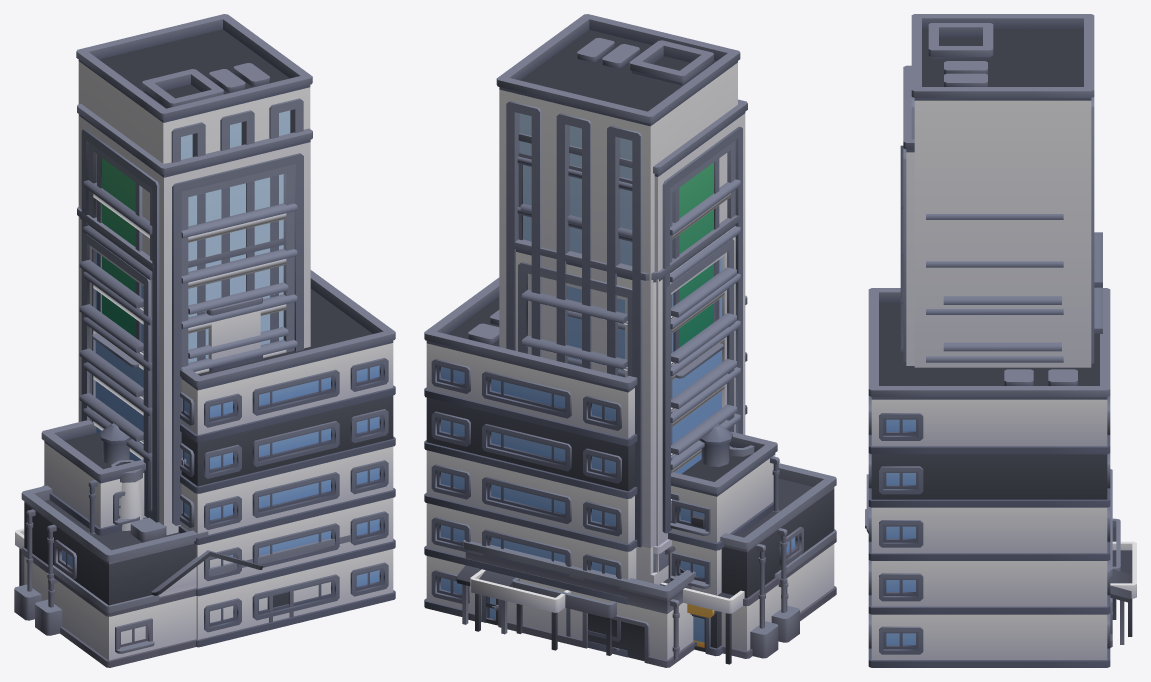
File: world_buildings.glb
3 views of the same model, side by side, from view 1: azimuth 30°, elevation 25°; view 2: azimuth 150°, elevation 25°; view 3: azimuth 270°, elevation 25° (orthographic). The views are drawn at different scales.
Parts seen in each view (by area): view 1: building-n, building-skyscraper-c, building-skyscraper-e, building-q, building-skyscraper-a, building-h, building-k, building-b; view 2: building-skyscraper-e, building-n, building-q, building-skyscraper-a, building-skyscraper-c, building-k, building-h, building-d; view 3: building-n, building-skyscraper-e, building-skyscraper-c, building-skyscraper-a, building-q, building-d.
Part boxes in pixels (x1,y1,x2,y2): building-n: (15, 270, 395, 647); building-skyscraper-c: (77, 69, 312, 535); building-skyscraper-e: (76, 14, 312, 421); building-q: (14, 485, 350, 644); building-skyscraper-a: (77, 205, 288, 516); building-h: (48, 550, 263, 667); building-k: (41, 420, 147, 535); building-b: (111, 460, 142, 530); building-skyscraper-e: (496, 14, 740, 582); building-n: (424, 277, 747, 664); building-q: (456, 463, 836, 667); building-skyscraper-a: (514, 215, 739, 584); building-skyscraper-c: (518, 40, 747, 572); building-k: (668, 424, 779, 656); building-h: (680, 529, 836, 620); building-d: (512, 577, 616, 655); building-n: (868, 288, 1136, 667); building-skyscraper-e: (911, 14, 1094, 367); building-skyscraper-c: (900, 23, 1063, 365); building-skyscraper-a: (902, 232, 1102, 351); building-q: (1110, 469, 1131, 647); building-d: (1112, 518, 1120, 619).
Bounding box in the file's own units: 2.46 × 4.08 × 1.84.
Materials: 2 (2 with a texture image).
